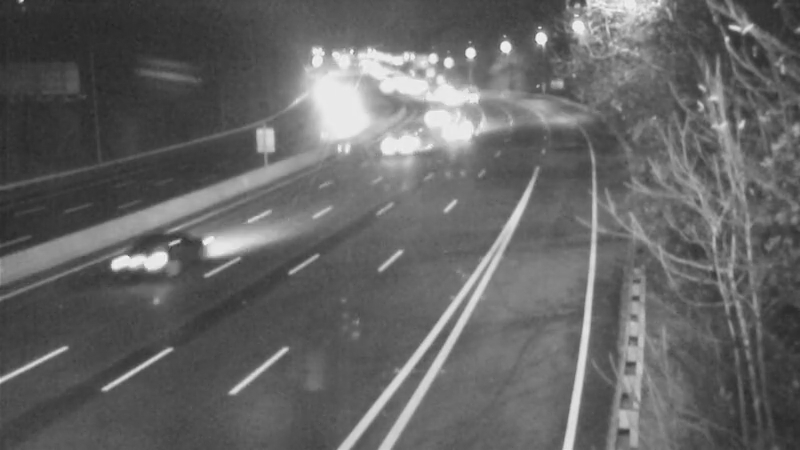vehicle: (103, 219, 183, 299), (402, 73, 452, 123), (422, 74, 472, 124), (409, 93, 459, 143), (432, 108, 482, 158), (378, 119, 428, 169), (312, 99, 362, 149)
